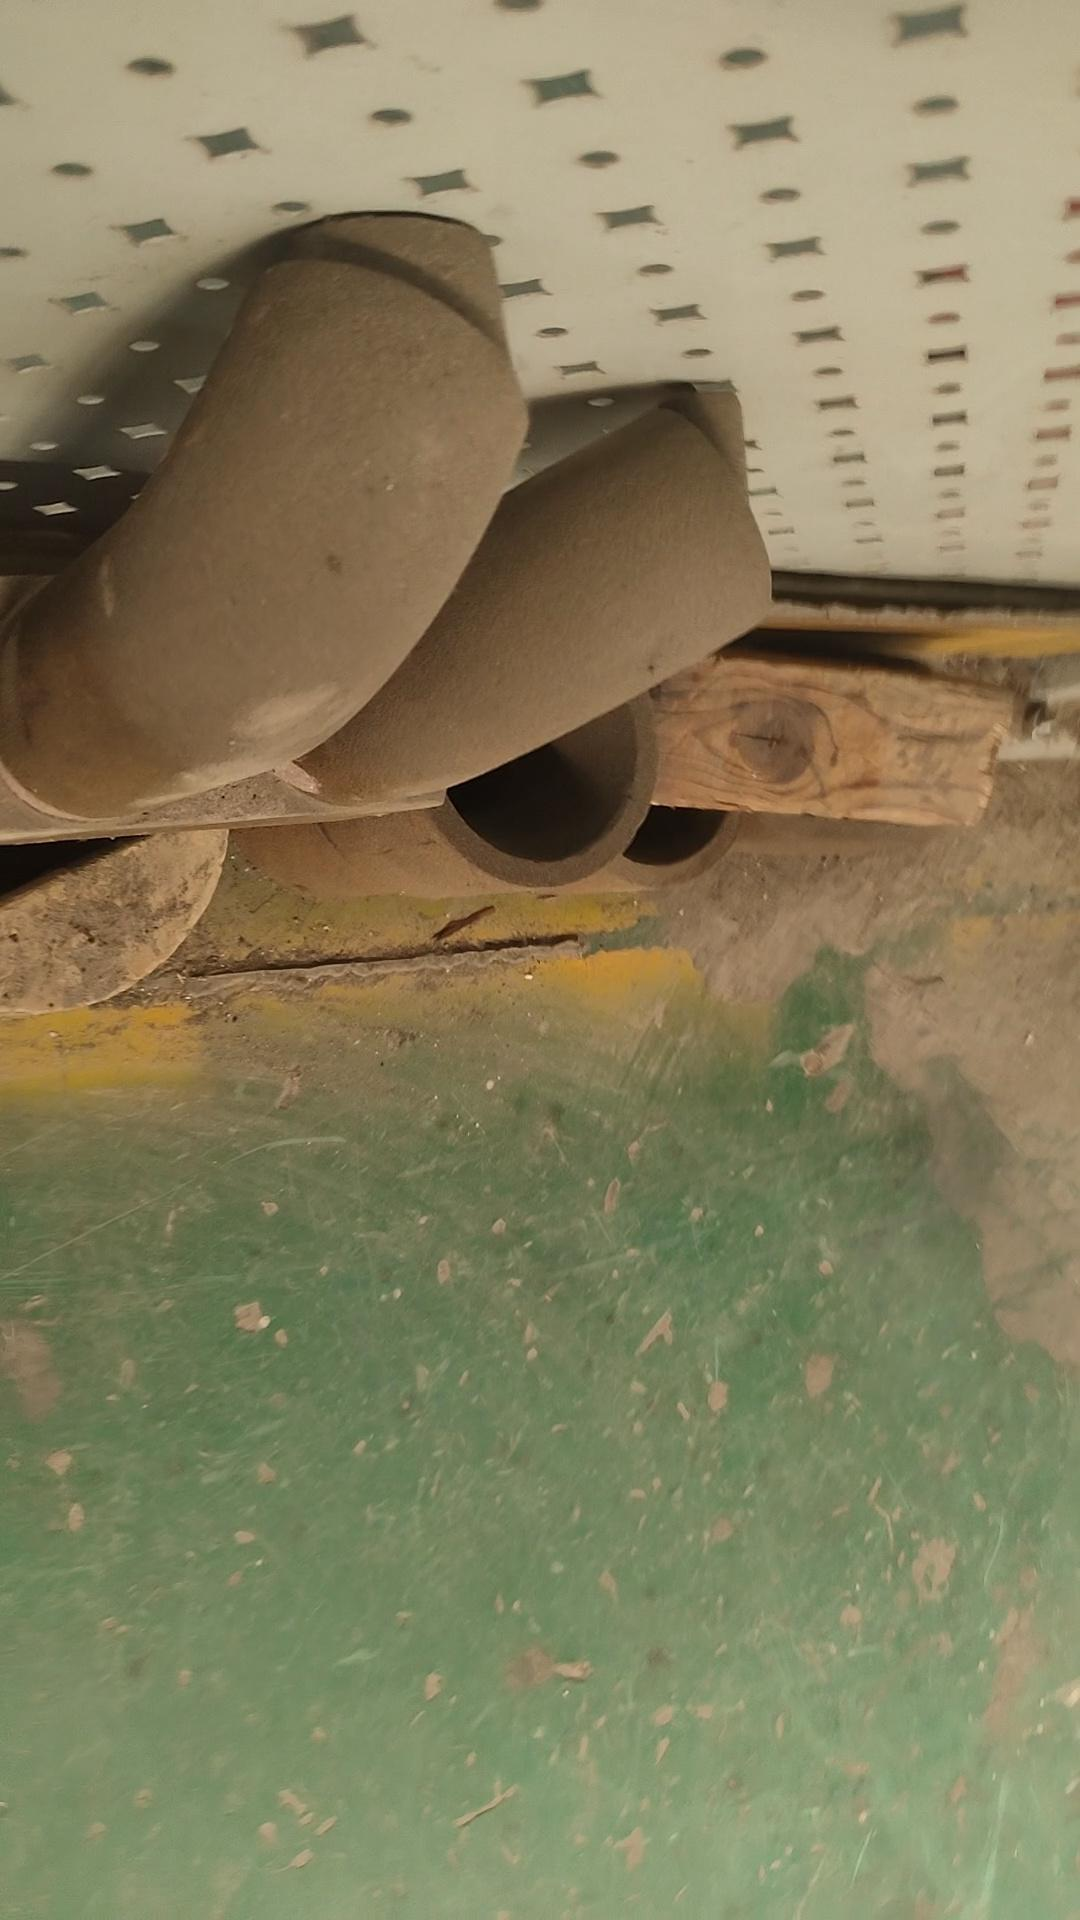pouring hole: (440, 657, 637, 862), (592, 705, 729, 862)
